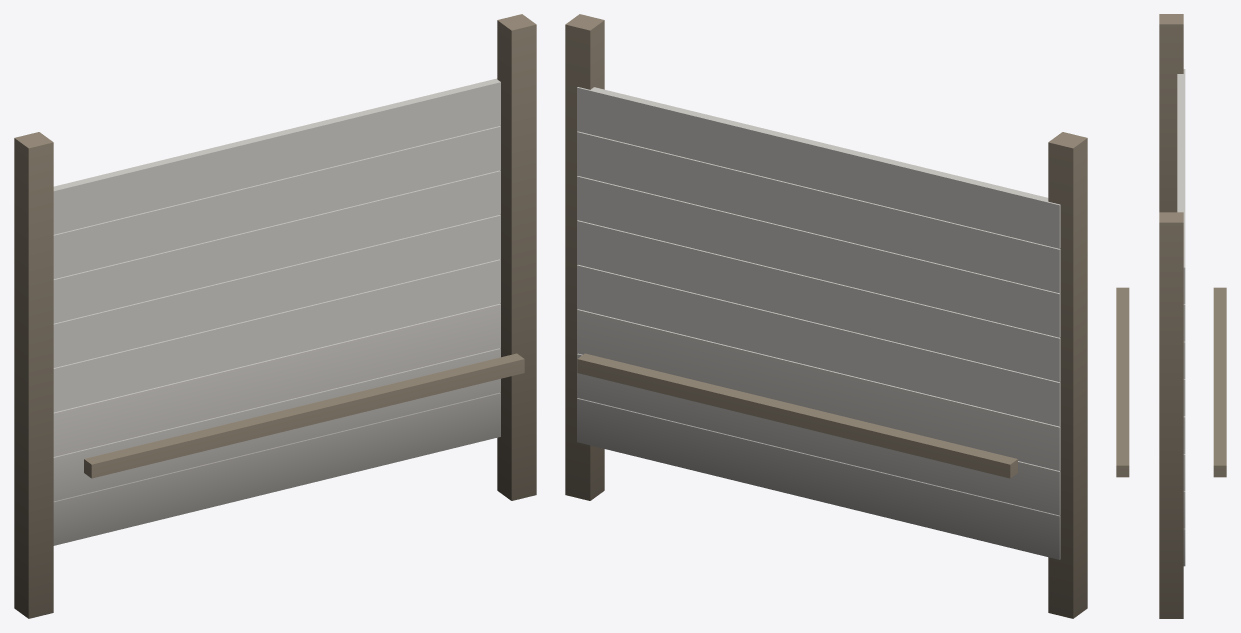
Rendered from obstacle_wall.glb.
The picture shows the model from 3 angles, left to right: view 1: azimuth 30°, elevation 25°; view 2: azimuth 150°, elevation 25°; view 3: azimuth 270°, elevation 25°; orthographic projection. The views are drawn at different scales.
Parts seen in each view (by area): view 1: obstacle_wall_LOD0; view 2: obstacle_wall_LOD0; view 3: obstacle_wall_LOD0.
Part boxes in pixels (x1,y1,x2,y2): obstacle_wall_LOD0: (14, 14, 536, 618); obstacle_wall_LOD0: (565, 14, 1087, 618); obstacle_wall_LOD0: (1116, 14, 1226, 618).
Size of what is drawn, in the model's own units: 3.05 by 2.7 by 0.68.
